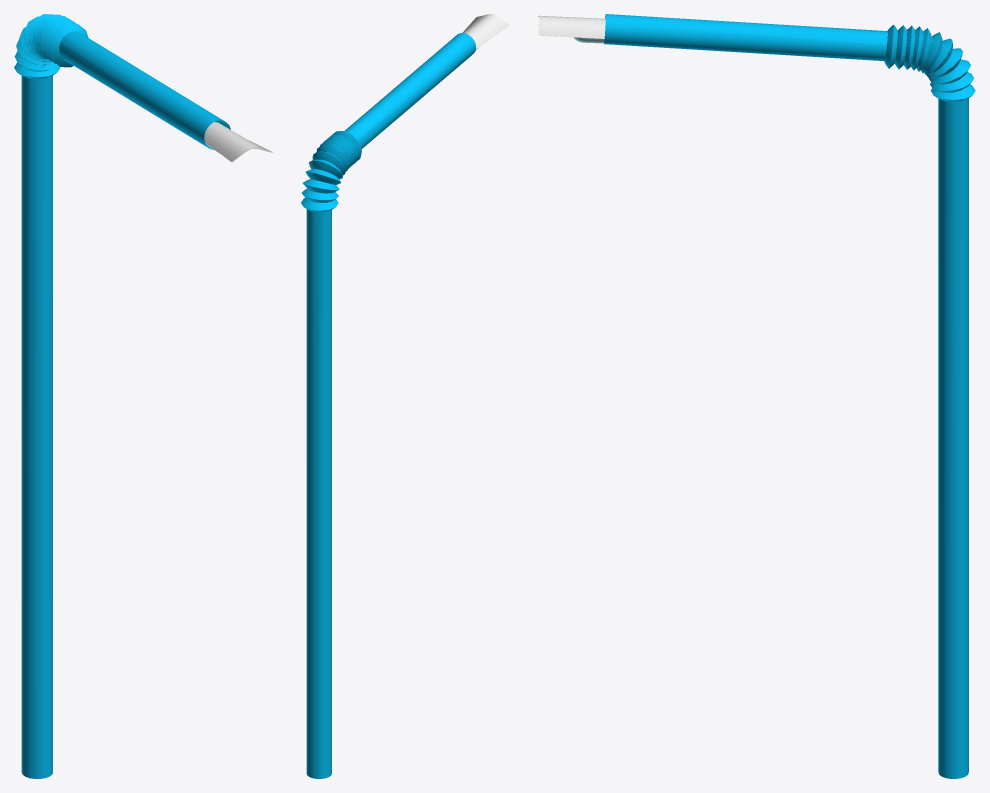
File: StrawLight.fbx
3 views of the same model, side by side, from view 1: azimuth 30°, elevation 25°; view 2: azimuth 150°, elevation 25°; view 3: azimuth 270°, elevation 25° (orthographic). The views are drawn at different scales.
Visible parts, largest first — view 1: Cylinder001, Box001; view 2: Cylinder001, Box001; view 3: Cylinder001, Box001.
Part boxes in pixels (left/top/right/bottom): Cylinder001: left=14, top=14, right=230, bottom=778; Box001: left=204, top=122, right=272, bottom=162; Cylinder001: left=301, top=33, right=476, bottom=778; Box001: left=462, top=14, right=509, bottom=49; Cylinder001: left=604, top=14, right=975, bottom=778; Box001: left=538, top=15, right=605, bottom=38.
Size of the model in its own units: 0.4872 by 8.81 by 4.59.
